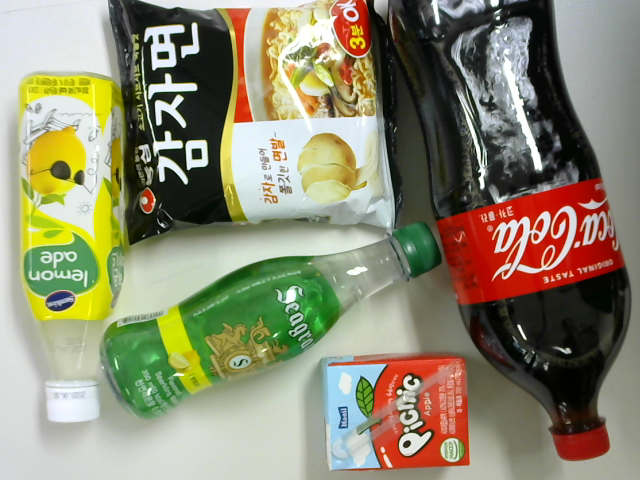Coca_Cola_1.5L: (391, 1, 635, 460)
Picnic_Apple: (323, 354, 469, 478)
Potato: (107, 1, 405, 242)
Seagram_Lemon_Carbonated_Water: (101, 220, 447, 418)
Sunkist_Lemonaid_Pet: (17, 70, 123, 426)
